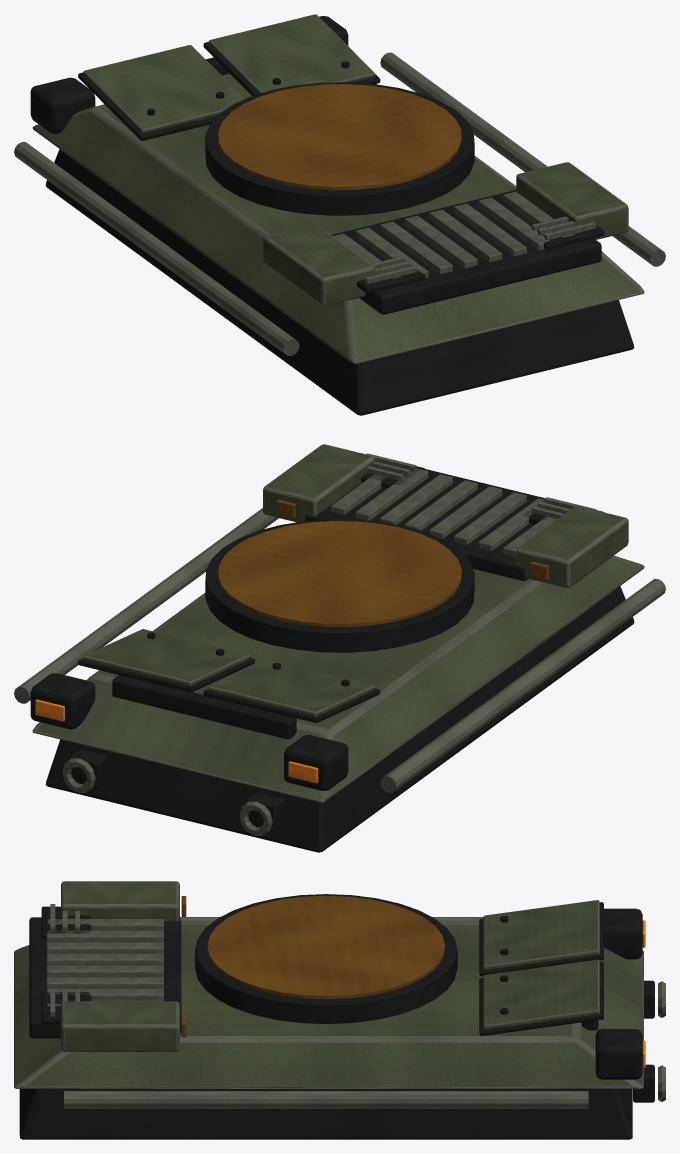
File: ranger-hull.fbx
The picture shows the model from 3 angles, top to bottom: view 1: azimuth 30°, elevation 25°; view 2: azimuth 150°, elevation 25°; view 3: azimuth 270°, elevation 25°; orthographic projection. The views are drawn at different scales.
Parts seen in each view (by area): view 1: ranger-hull_Armor, ranger-hull_Steel, ranger-hull_Brass, ranger-hull_Edge; view 2: ranger-hull_Armor, ranger-hull_Steel, ranger-hull_Edge, ranger-hull_Brass, ranger-hull_Optic; view 3: ranger-hull_Armor, ranger-hull_Steel, ranger-hull_Edge, ranger-hull_Brass.
Boxes of the visible parts, left/top/right/bottom form: ranger-hull_Armor: left=32, top=14, right=644, bottom=363; ranger-hull_Steel: left=30, top=16, right=634, bottom=415; ranger-hull_Brass: left=218, top=84, right=461, bottom=190; ranger-hull_Edge: left=14, top=52, right=665, bottom=355; ranger-hull_Armor: left=32, top=444, right=644, bottom=802; ranger-hull_Steel: left=30, top=466, right=634, bottom=852; ranger-hull_Edge: left=14, top=453, right=665, bottom=835; ranger-hull_Brass: left=218, top=500, right=548, bottom=626; ranger-hull_Optic: left=35, top=699, right=318, bottom=783; ranger-hull_Armor: left=14, top=881, right=643, bottom=1088; ranger-hull_Steel: left=19, top=894, right=654, bottom=1139; ranger-hull_Edge: left=46, top=904, right=665, bottom=1108; ranger-hull_Brass: left=181, top=895, right=444, bottom=1037.
Size of the model in its own units: 311 by 104 by 472.
Materials: 5 (5 with a texture image).
